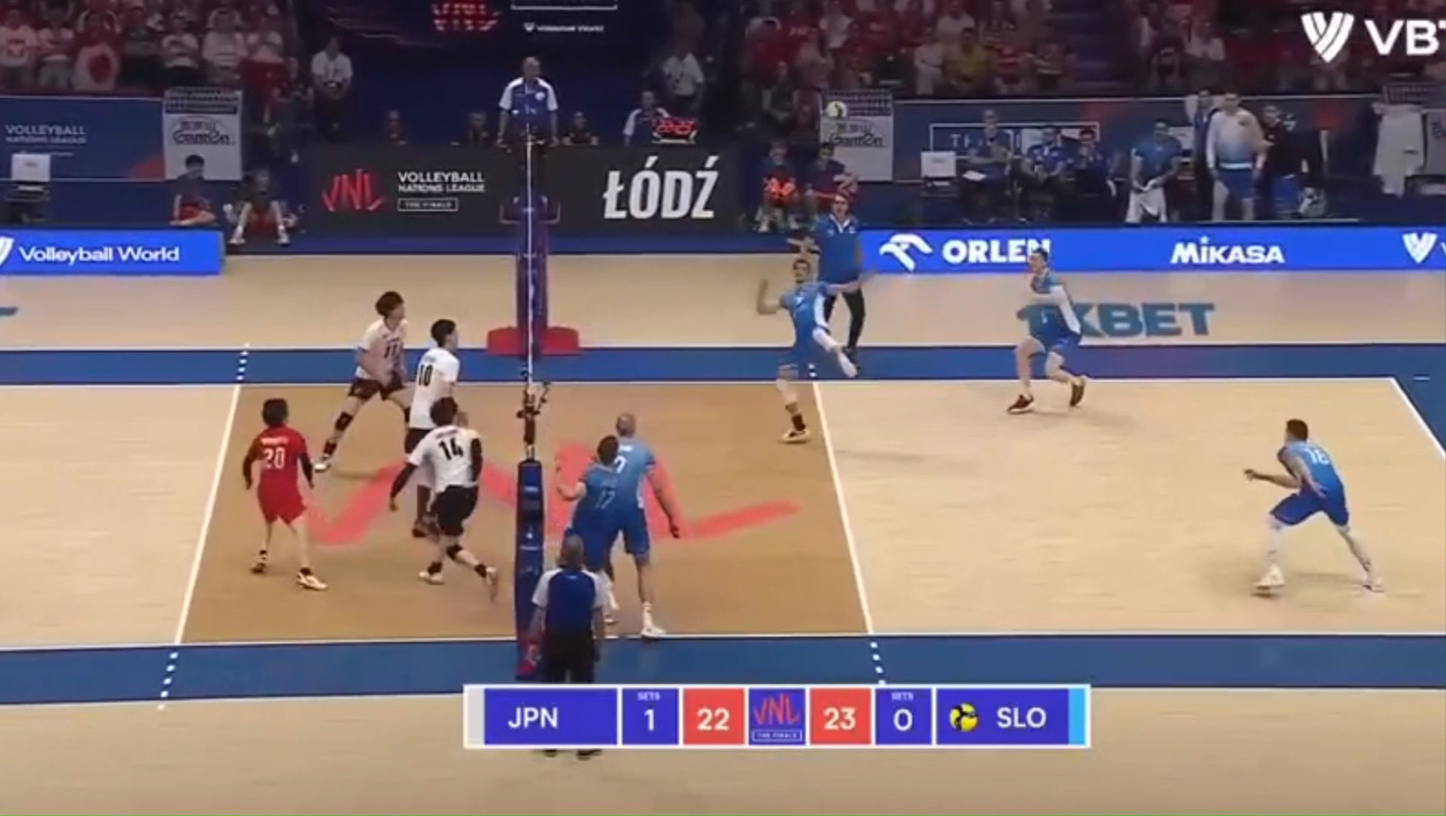ball: (824, 100, 848, 118)
player: (1244, 419, 1379, 595), (755, 257, 860, 443), (594, 413, 680, 639), (1007, 249, 1086, 414), (561, 436, 622, 572)
player 1: (389, 397, 496, 597), (314, 291, 411, 471), (241, 397, 327, 590), (404, 320, 459, 454)
referee: (528, 530, 606, 684), (496, 57, 558, 222), (811, 196, 866, 366)
